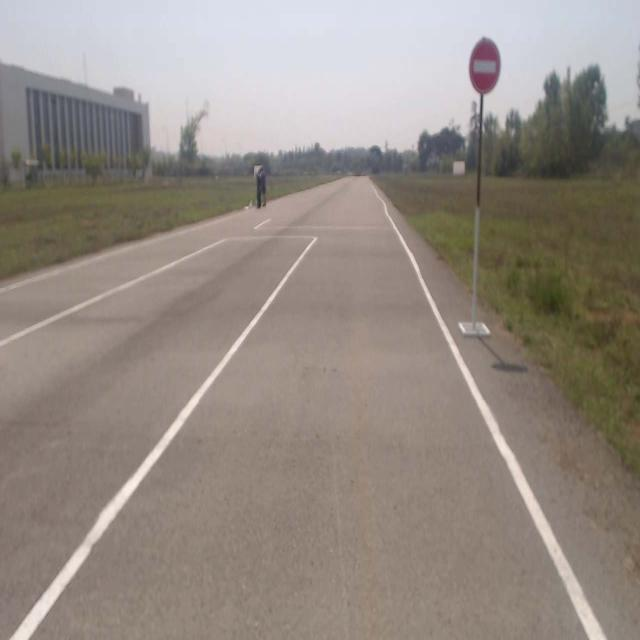girisyok: (470, 38, 500, 92)
